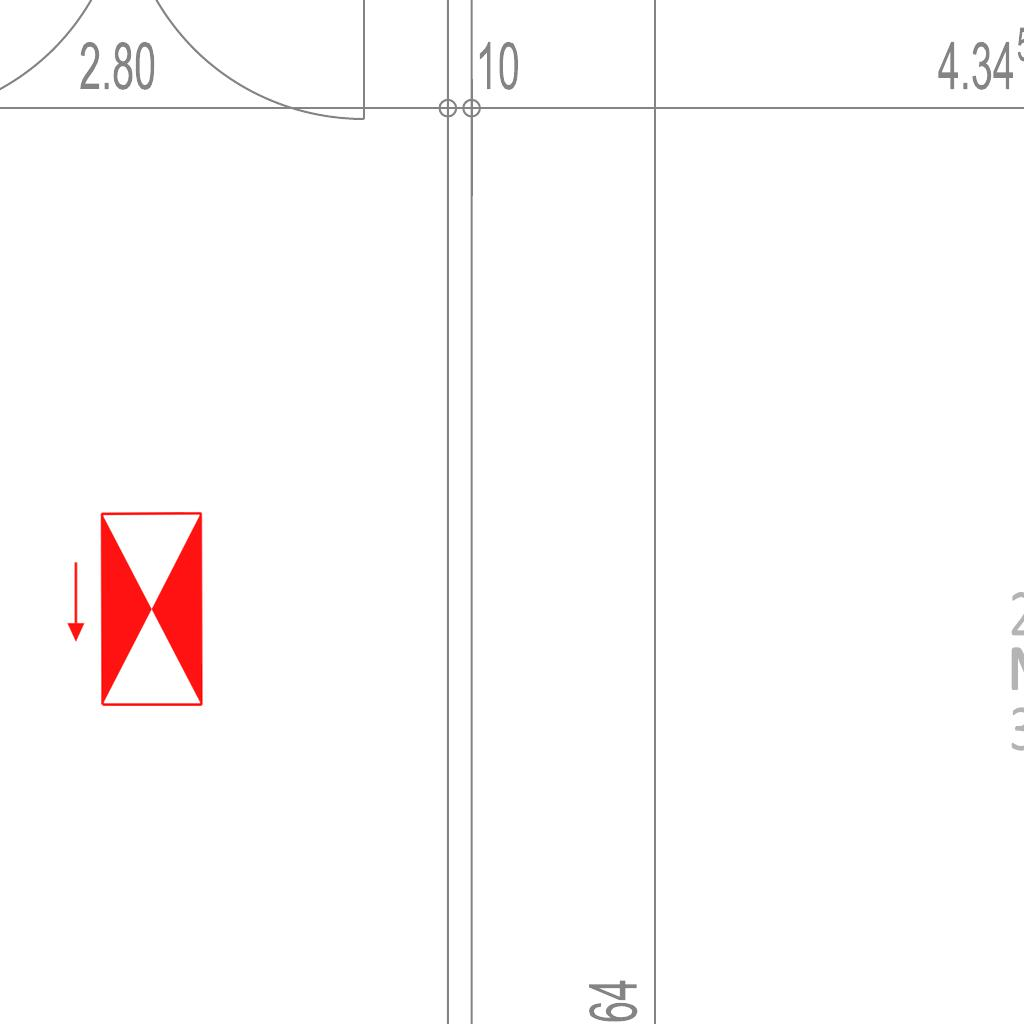Fluchtwegpiktogramm: (62, 505, 209, 713)
